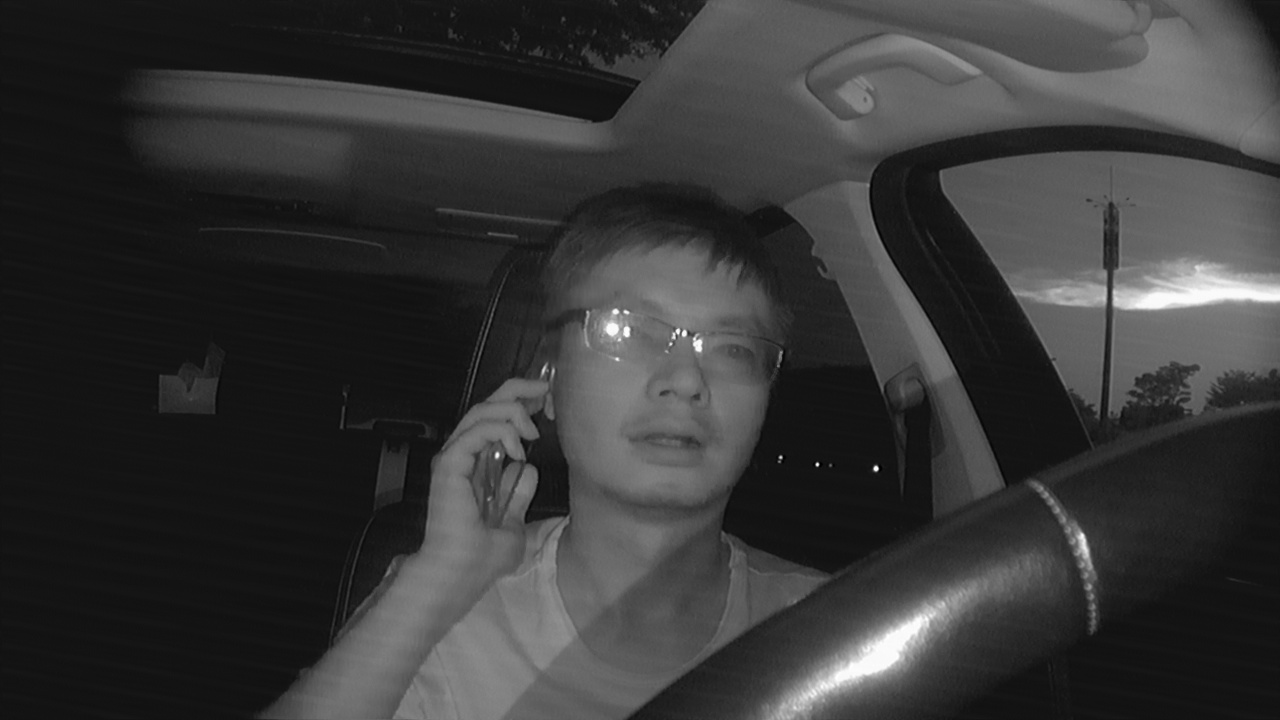hand: (416, 371, 557, 579)
